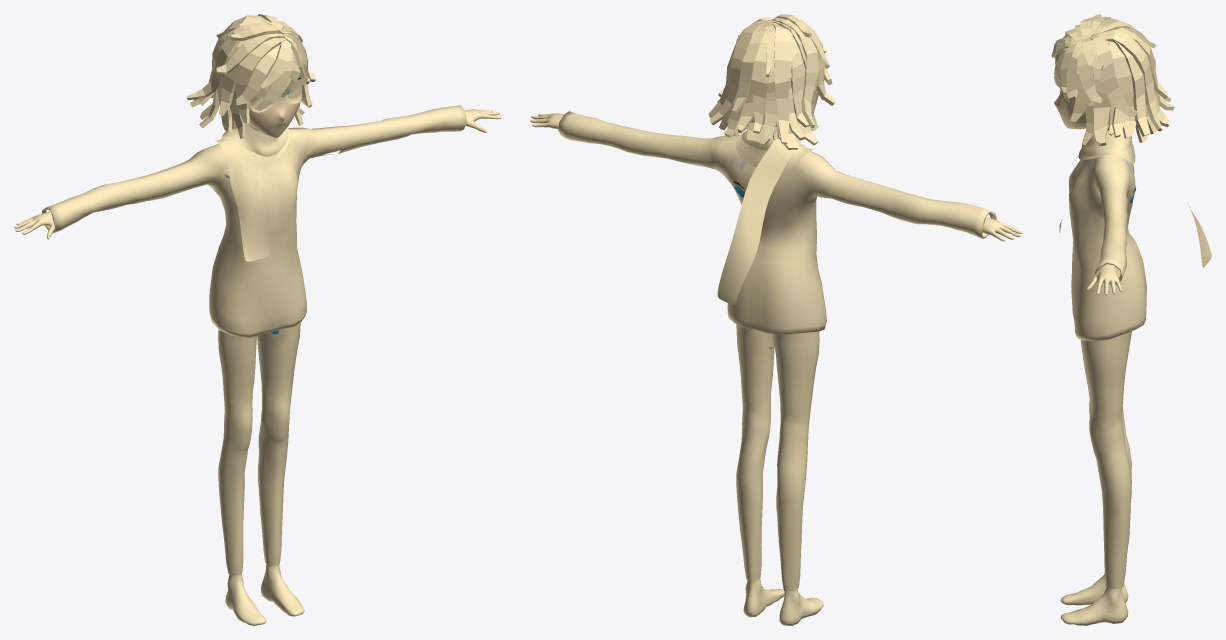
File: Girl1.glb
3 renders of one model, left to right at view 1: azimuth 30°, elevation 25°; view 2: azimuth 150°, elevation 25°; view 3: azimuth 270°, elevation 25°, orthographic.
Visible parts, largest first — view 1: girl_OBJ; view 2: girl_OBJ; view 3: girl_OBJ.
Part boxes in pixels (x1,y1,x2,y2): girl_OBJ: (14,14,501,625); girl_OBJ: (530,14,1022,625); girl_OBJ: (1051,14,1211,625).
Bounding box in the file's own units: 1.39 × 1.61 × 0.3962.
Materials: 1 (1 with a texture image).
